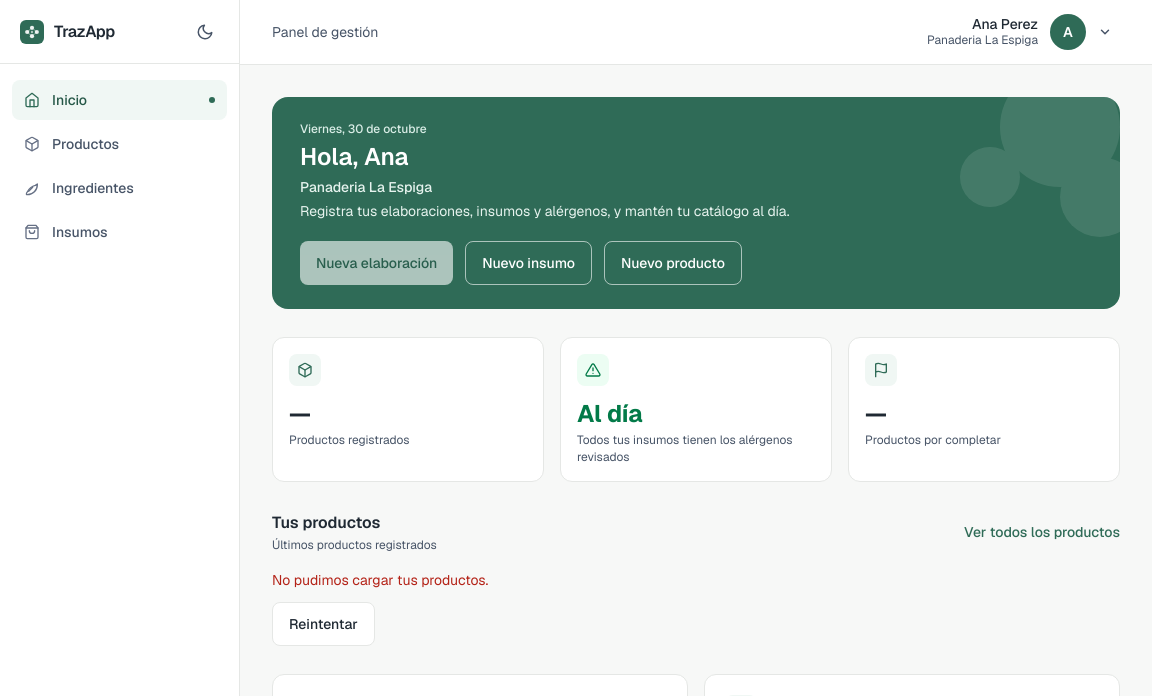
Menú › agrega Insumos junto a Ingredientes y lleva al listado
Click the link "Insumos".
click(66, 232)  # box [24,223,108,241]
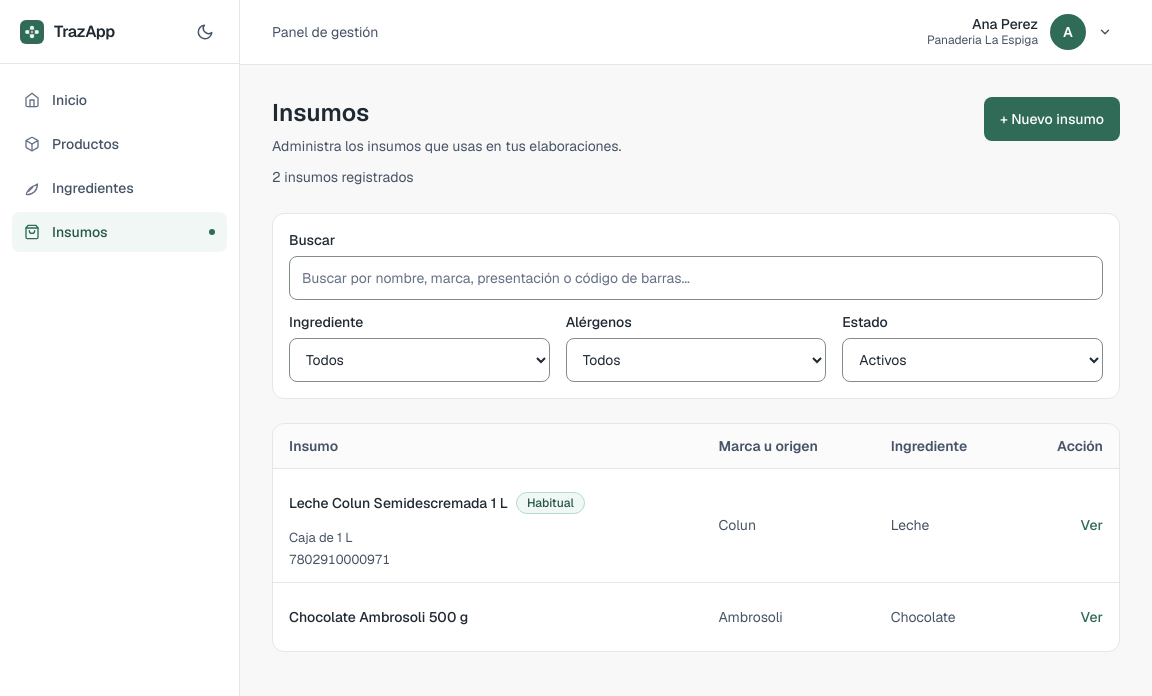
Expected: the heading "Insumos" is shown, [272,97,369,129]
